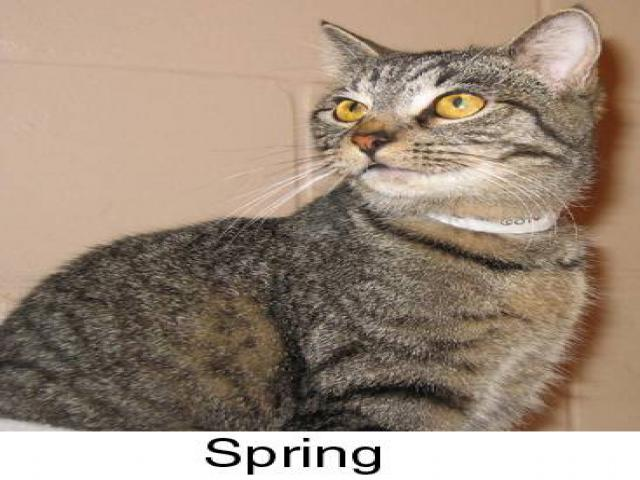cat: (4, 8, 618, 438)
